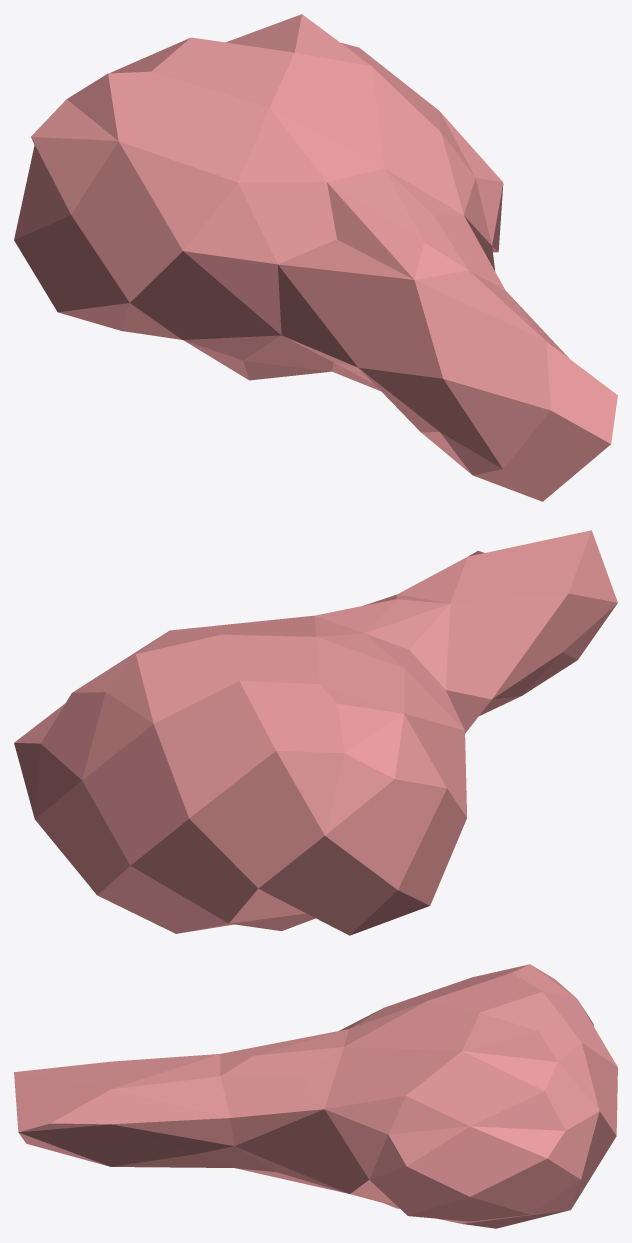
The model's file is Chicken leg.glb.
The picture shows the model from 3 angles, top to bottom: view 1: azimuth 30°, elevation 25°; view 2: azimuth 150°, elevation 25°; view 3: azimuth 270°, elevation 25°; orthographic projection. The views are drawn at different scales.
Visible parts, largest first — view 1: Chicken leg; view 2: Chicken leg; view 3: Chicken leg.
Part boxes in pixels (box(x1,y1,x2,y2)): Chicken leg: box(14, 14, 617, 501); Chicken leg: box(14, 530, 617, 935); Chicken leg: box(14, 964, 617, 1228).
Bounding box in the file's own units: 0.5077 × 0.3345 × 0.9033.
